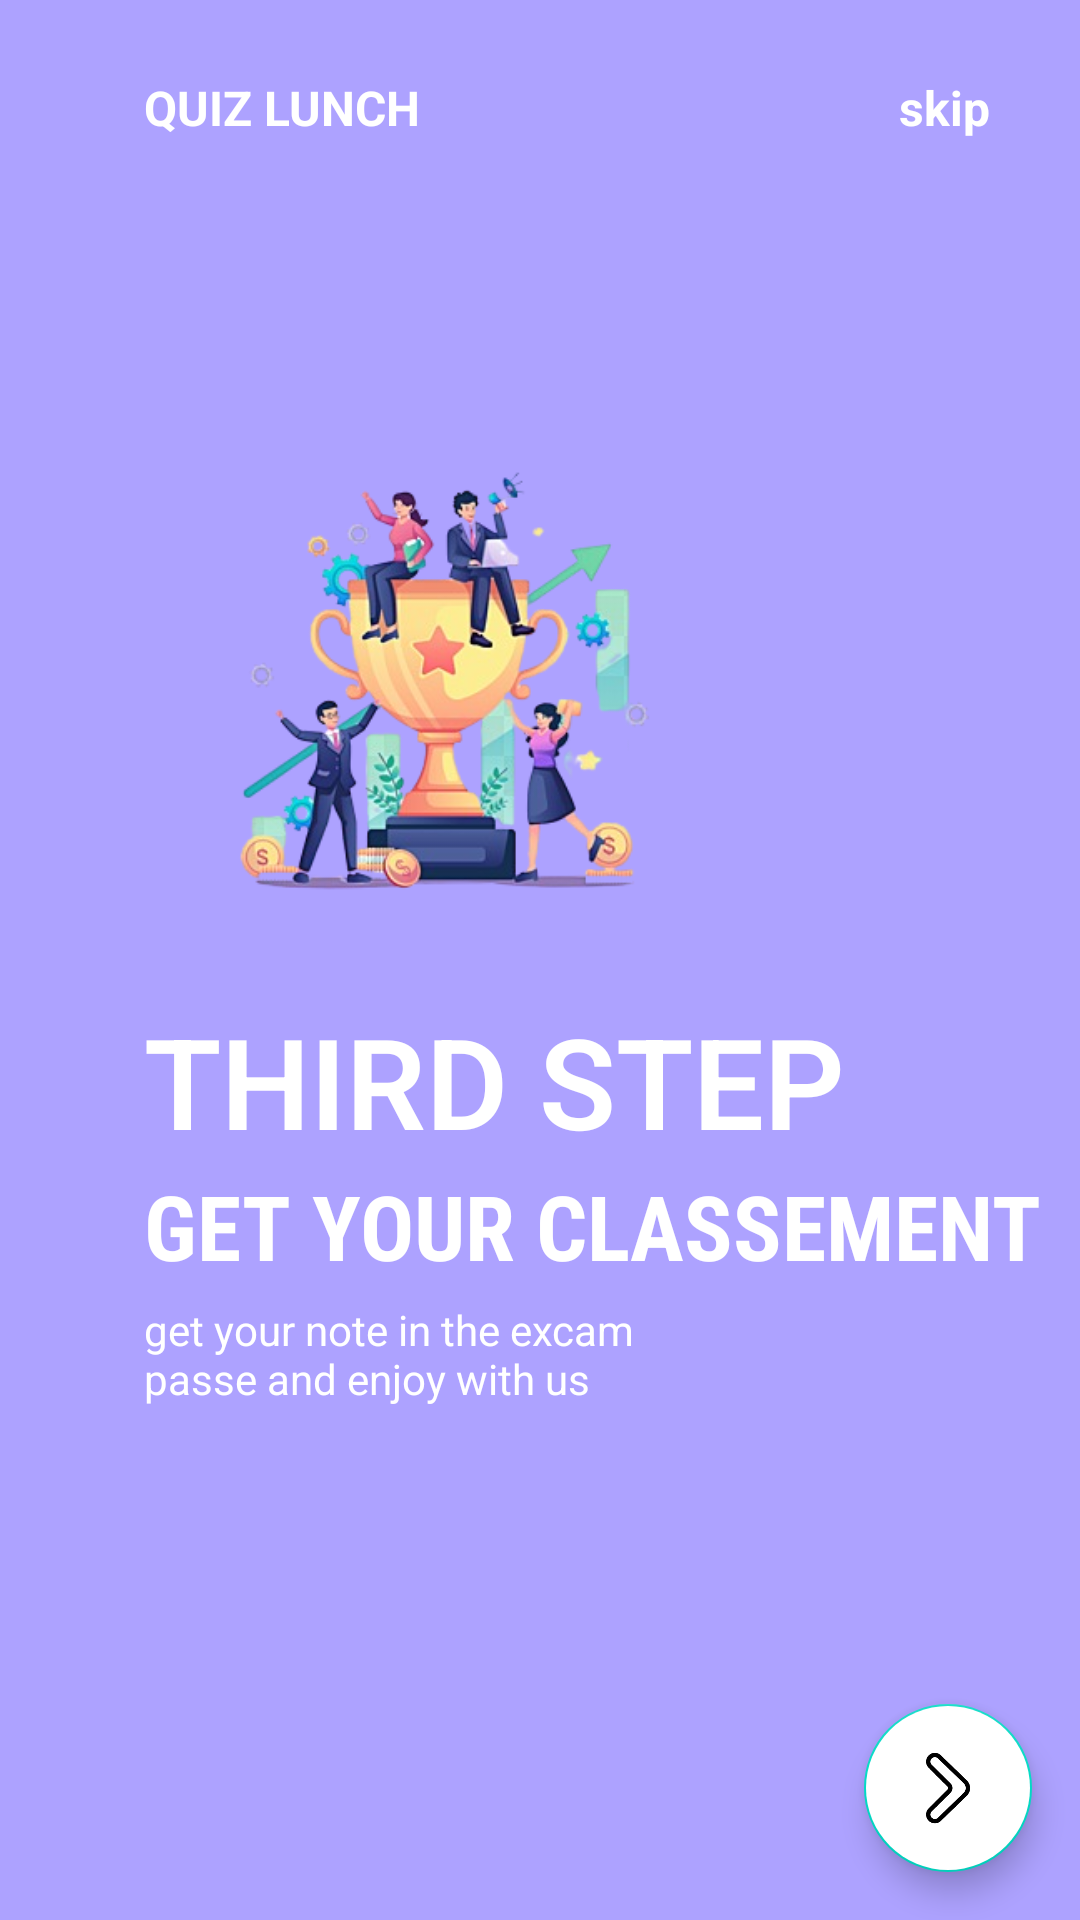

Icon click points for this 1080*1920 phone screenshot, format (x,y):
next: (948,1788)
